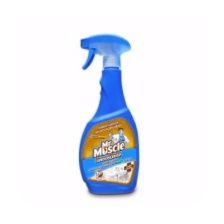cleaning_solution: (74, 30, 140, 197)
